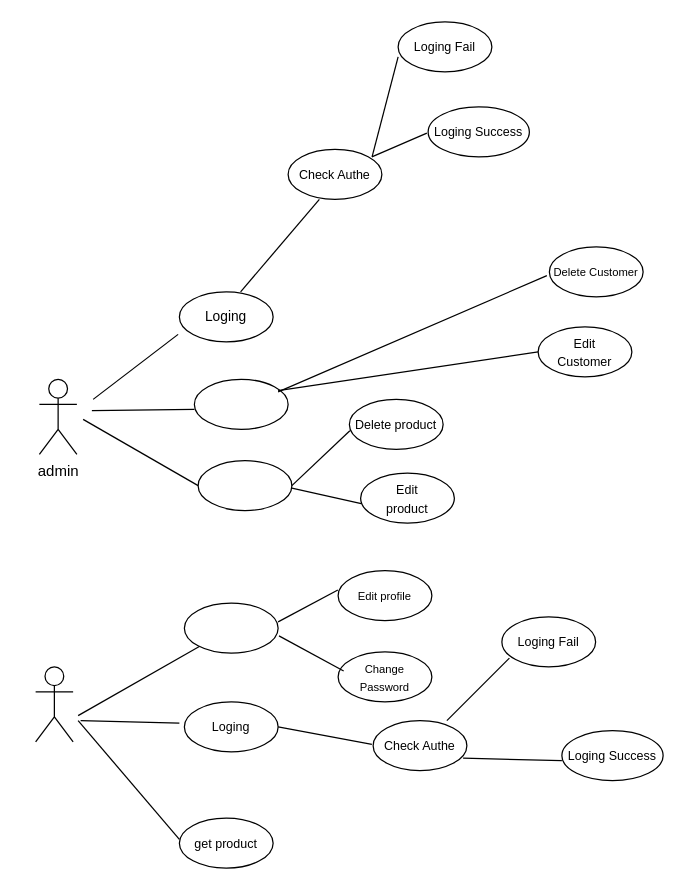
The diagram is 685 pixels wide and 890 high, and some of its shapes have lost their labels. Here are the shapes that lost their labels. From the top down, the centre of each, then its label:
At [240,403]: "Add Customer".
At [244,485]: "Add product".
At [230,627]: "profile Managment".
At [53,704]: "Customer".
